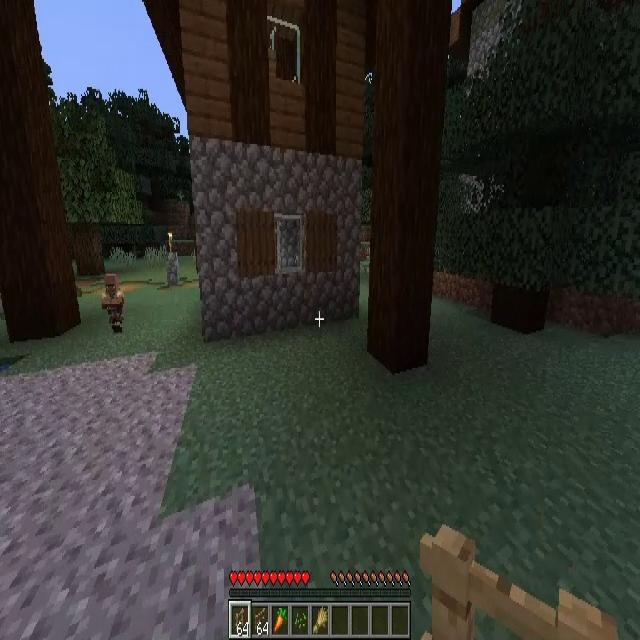people: (102, 276, 124, 333)
